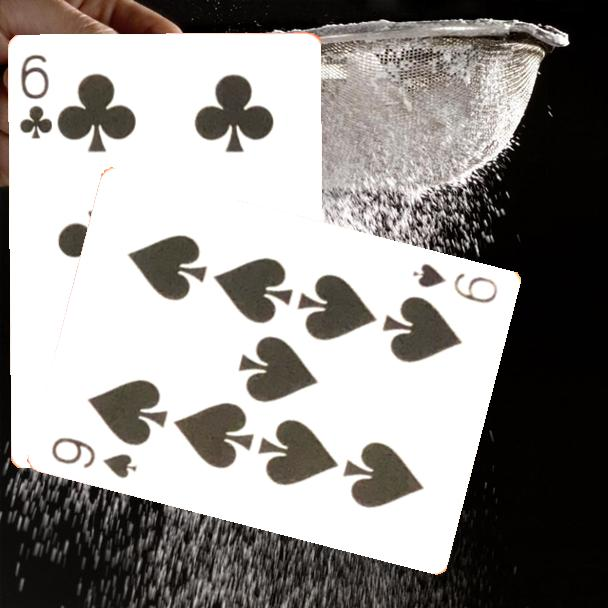c06: (16, 51, 55, 142)
s09: (48, 433, 141, 481), (410, 259, 502, 306)
